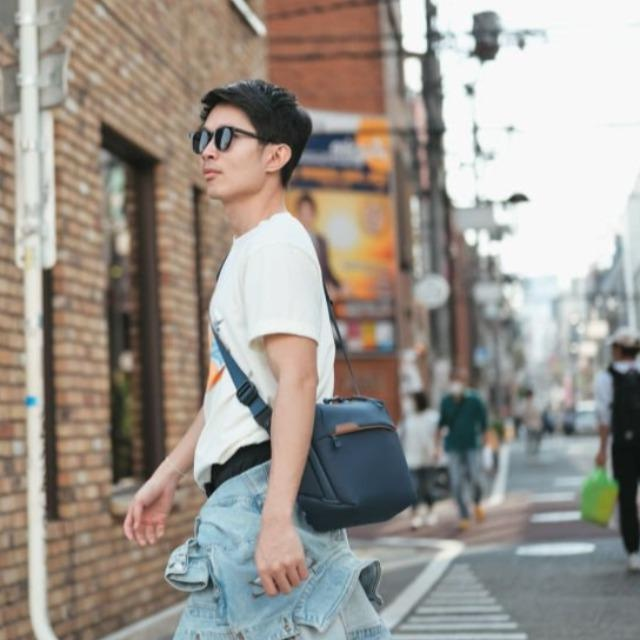Sin_Casco_Mascarrilla: (194, 79, 314, 205)
Sin_Chaleco: (196, 217, 336, 479)
